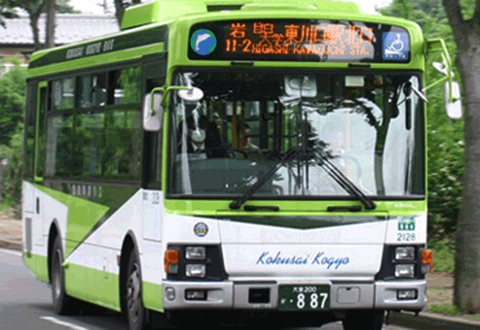destination: (221, 22, 376, 59)
